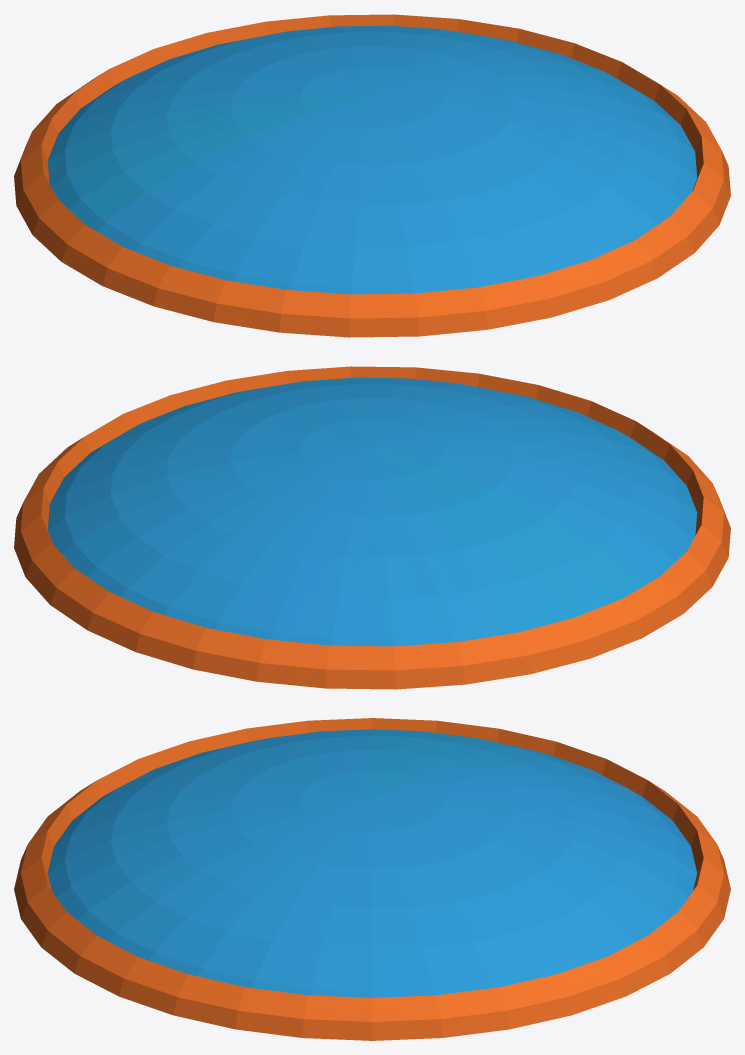
The model's file is checkpoint.fbx.
The picture shows the model from 3 angles, top to bottom: view 1: azimuth 30°, elevation 25°; view 2: azimuth 150°, elevation 25°; view 3: azimuth 270°, elevation 25°; orthographic projection.
Visible parts, largest first — view 1: Point, Border; view 2: Point, Border; view 3: Point, Border.
Part boxes in pixels (x1=…): Point: x1=47, y1=25, x2=697, y2=294; Border: x1=14, y1=14, x2=730, y2=337; Point: x1=47, y1=377, x2=697, y2=646; Border: x1=14, y1=366, x2=730, y2=689; Point: x1=48, y1=729, x2=696, y2=997; Border: x1=14, y1=718, x2=730, y2=1040.
Size of the model in its own units: 200 by 27.86 by 200.
